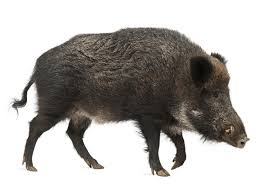boar: (13, 26, 250, 176)
